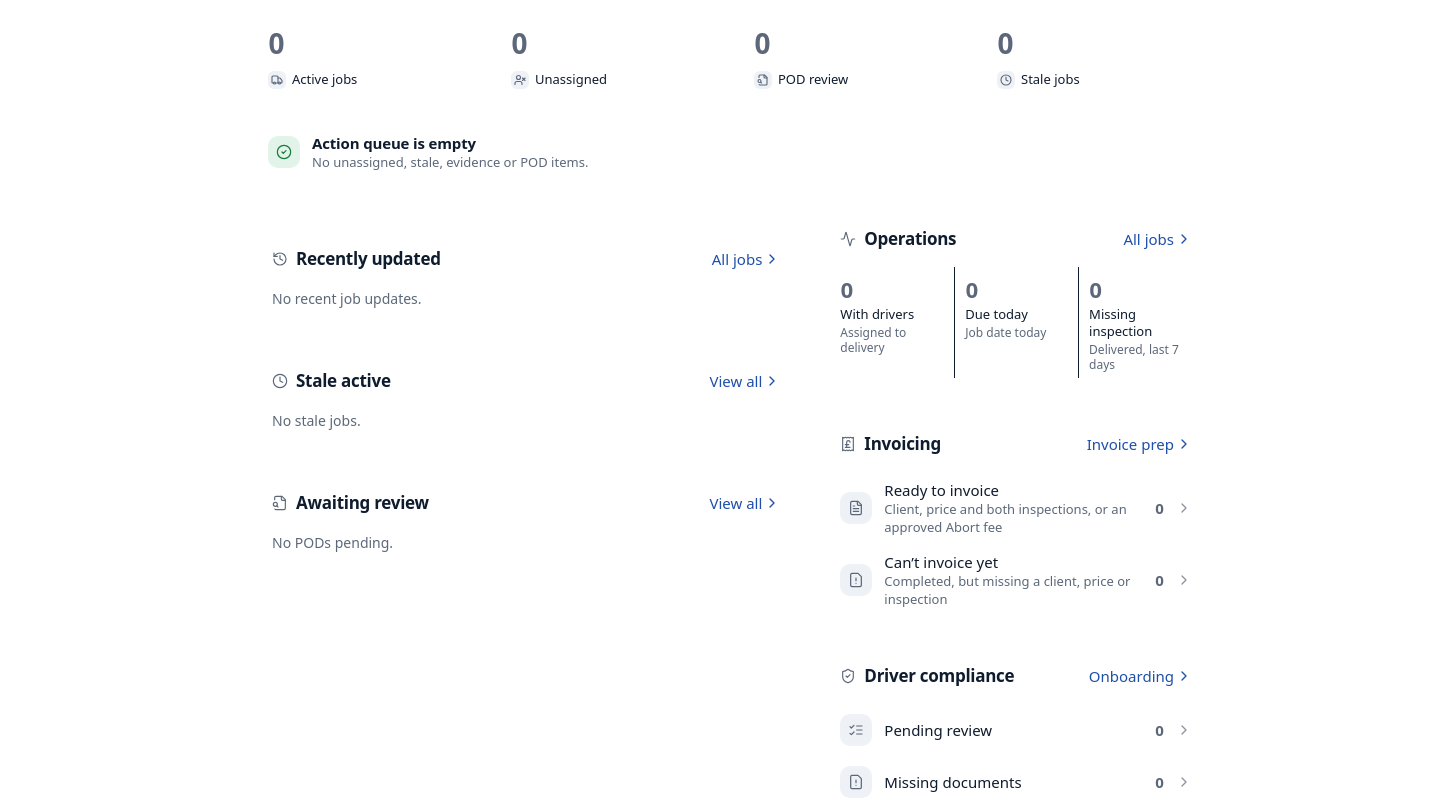
Scenario: Admin Home UI › Invoice prep opens invoice preparation
Click the button with aria-label "Open invoice preparation" at (1139, 444), box [1079,422,1200,466]
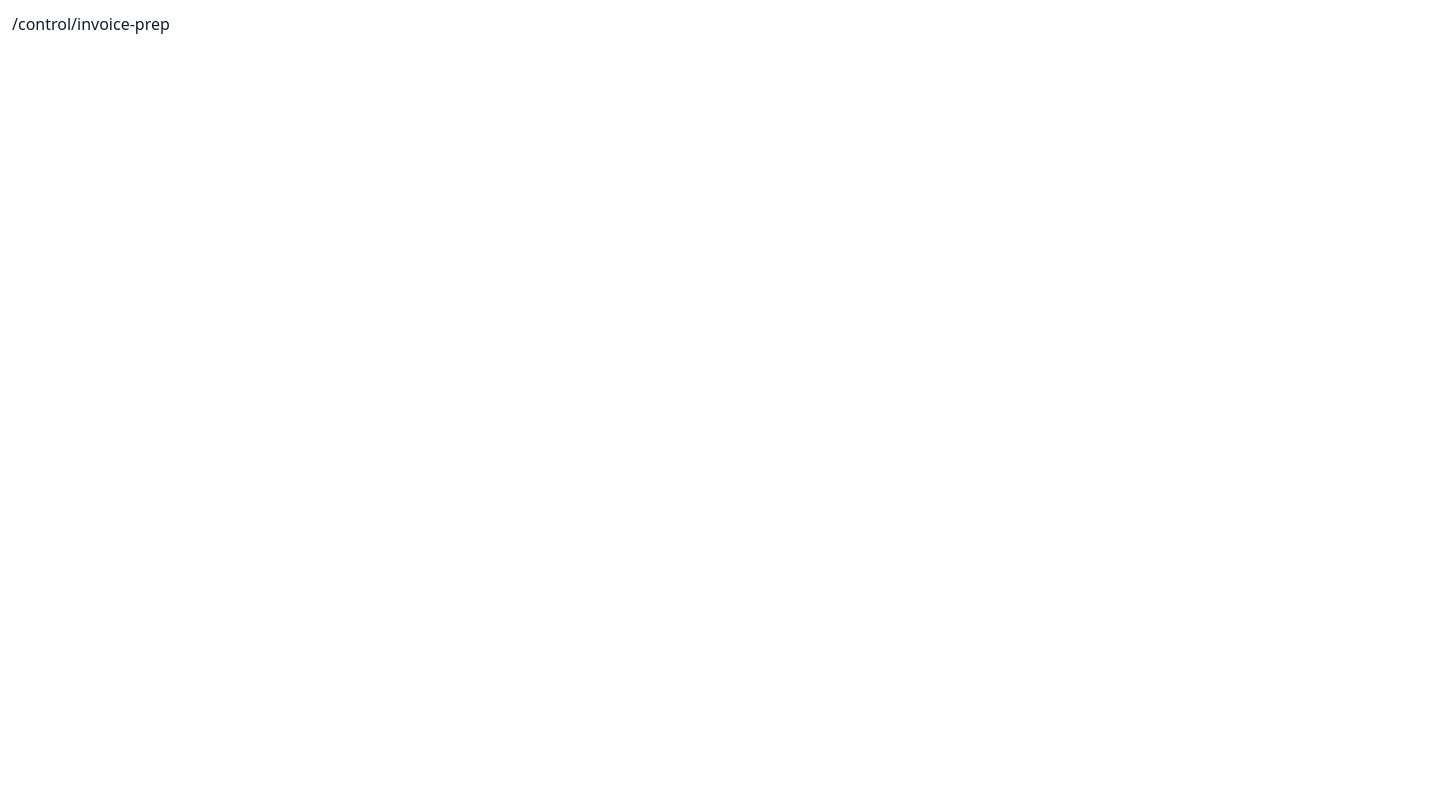
expect the text with test id "landed" reads "/control/invoice-prep": met, box [12,13,170,35]
